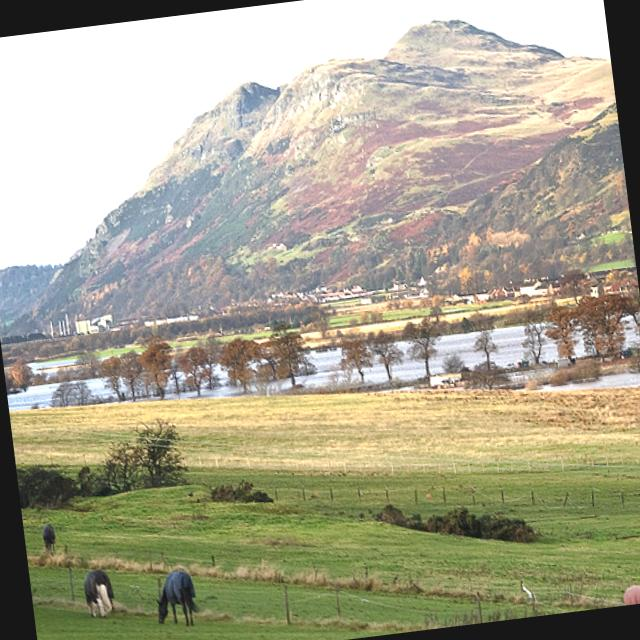Vehicle: (502, 362, 516, 372)
